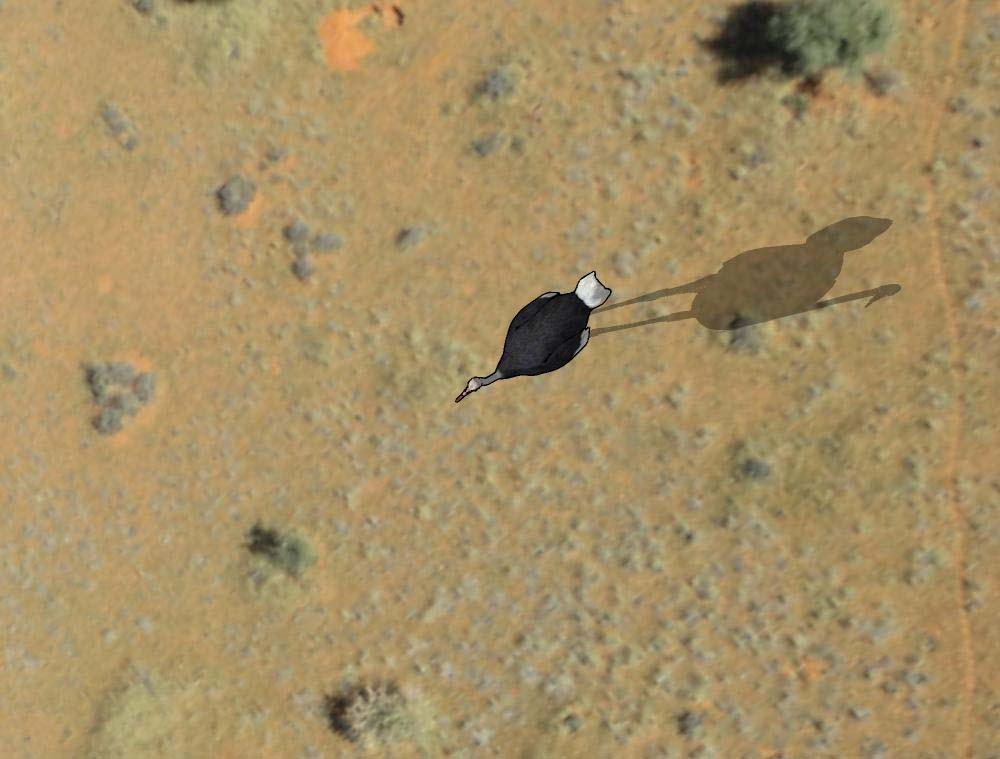ostrich: (447, 269, 616, 406)
